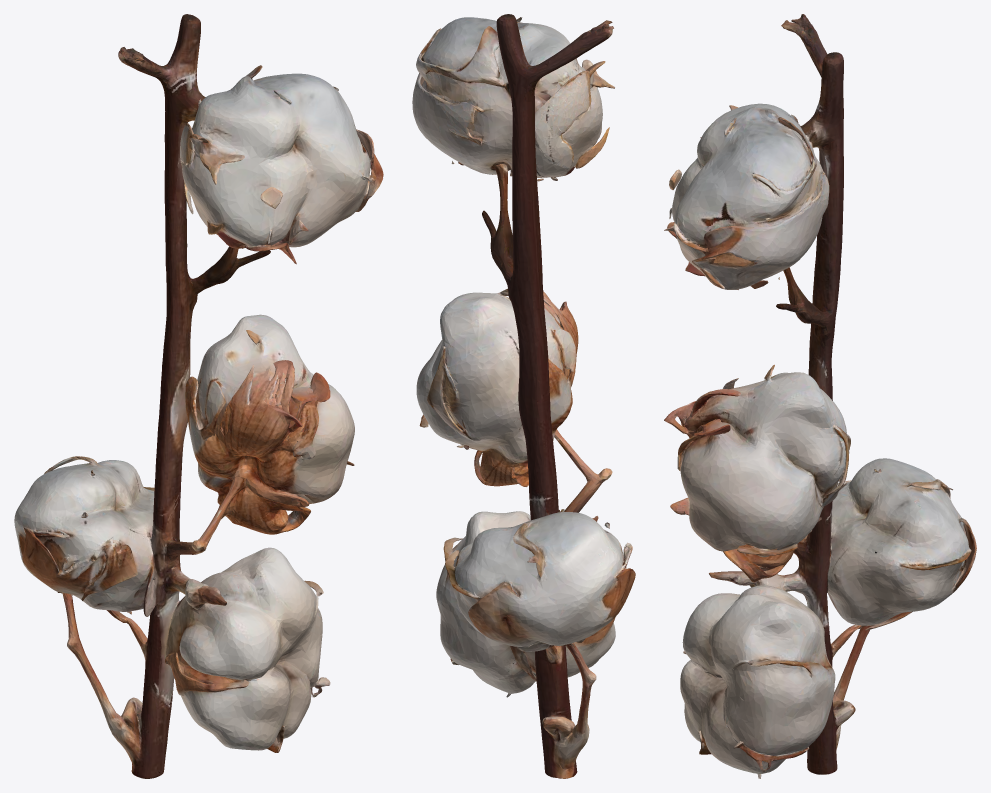
File: cotton.glb
3 views of the same model, side by side, from view 1: azimuth 30°, elevation 25°; view 2: azimuth 150°, elevation 25°; view 3: azimuth 270°, elevation 25° (orthographic).
Parts seen in each view (by area): view 1: world; view 2: world; view 3: world.
Boxes of the visible parts, left/top/right/bottom form: world: left=14, top=14, right=383, bottom=778; world: left=412, top=14, right=635, bottom=778; world: left=664, top=14, right=976, bottom=778.
Bounding box in the file's own units: 0.7607 × 1.99 × 0.7658.
Materials: 1 (1 with a texture image).
